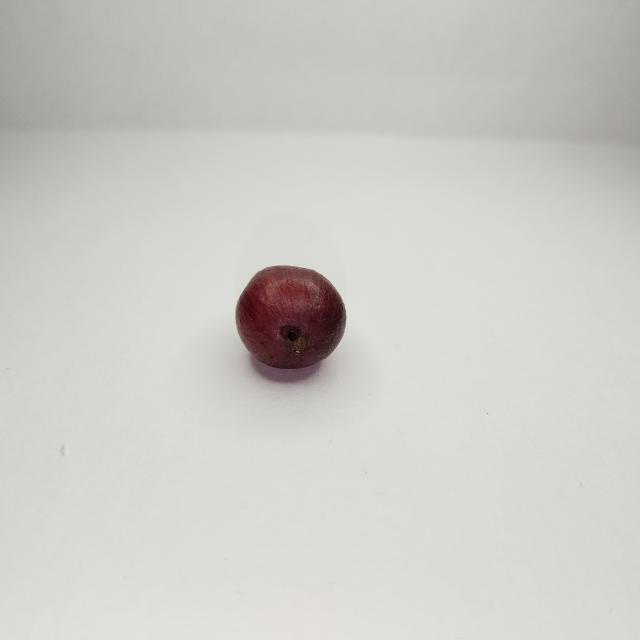Infectado: (236, 266, 346, 371)
